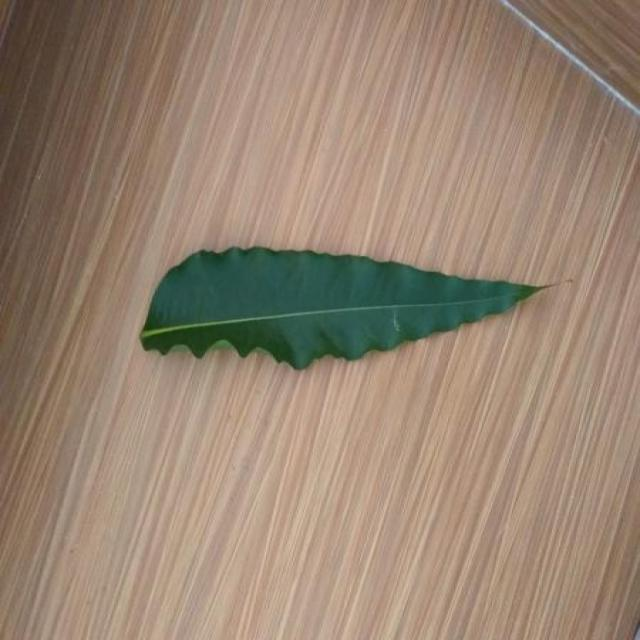ashoka: (140, 248, 542, 368)
